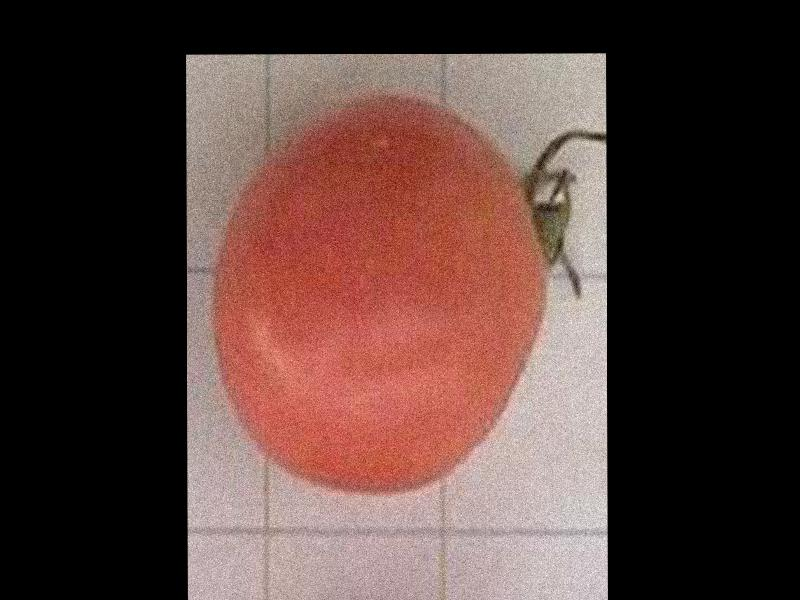Tomato: (212, 95, 547, 493)
